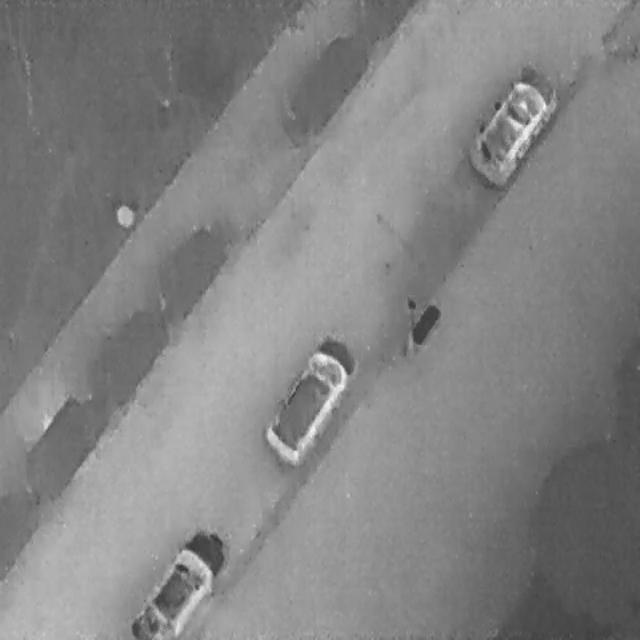Car: (257, 325, 365, 473), (459, 50, 568, 196), (126, 526, 227, 636)
